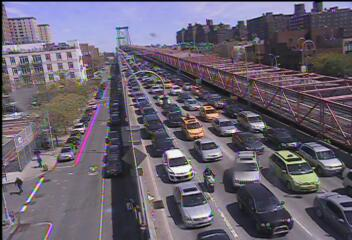neg: (99, 80, 125, 115), (274, 93, 297, 123), (196, 164, 216, 190), (279, 168, 297, 193), (256, 193, 274, 218), (54, 107, 71, 131), (140, 140, 157, 162), (239, 151, 255, 173), (315, 138, 331, 160), (69, 56, 85, 77), (134, 39, 150, 59), (254, 146, 270, 166), (102, 129, 117, 150), (78, 177, 93, 198), (155, 92, 170, 112), (189, 49, 203, 68), (258, 46, 272, 65), (298, 206, 311, 223), (98, 188, 111, 205), (38, 188, 51, 205), (221, 124, 230, 137)
pos: (8, 171, 26, 194), (29, 144, 41, 161), (32, 155, 43, 170)
